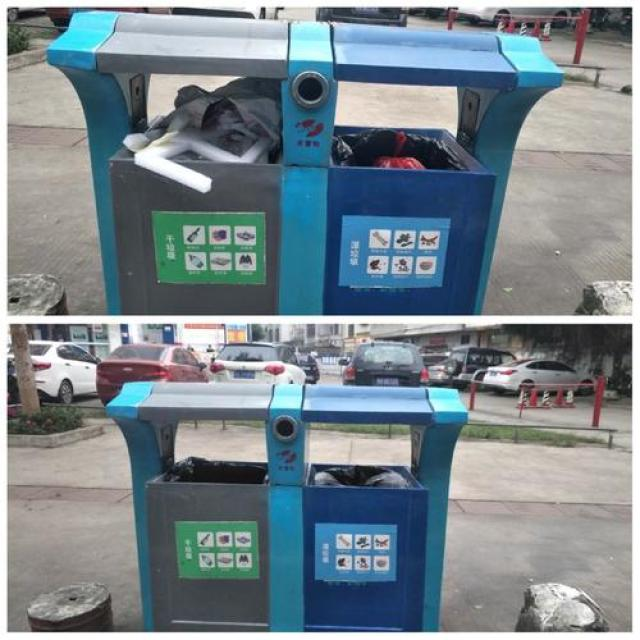garbage_bin: (102, 379, 466, 631)
overflow: (45, 10, 562, 312)
